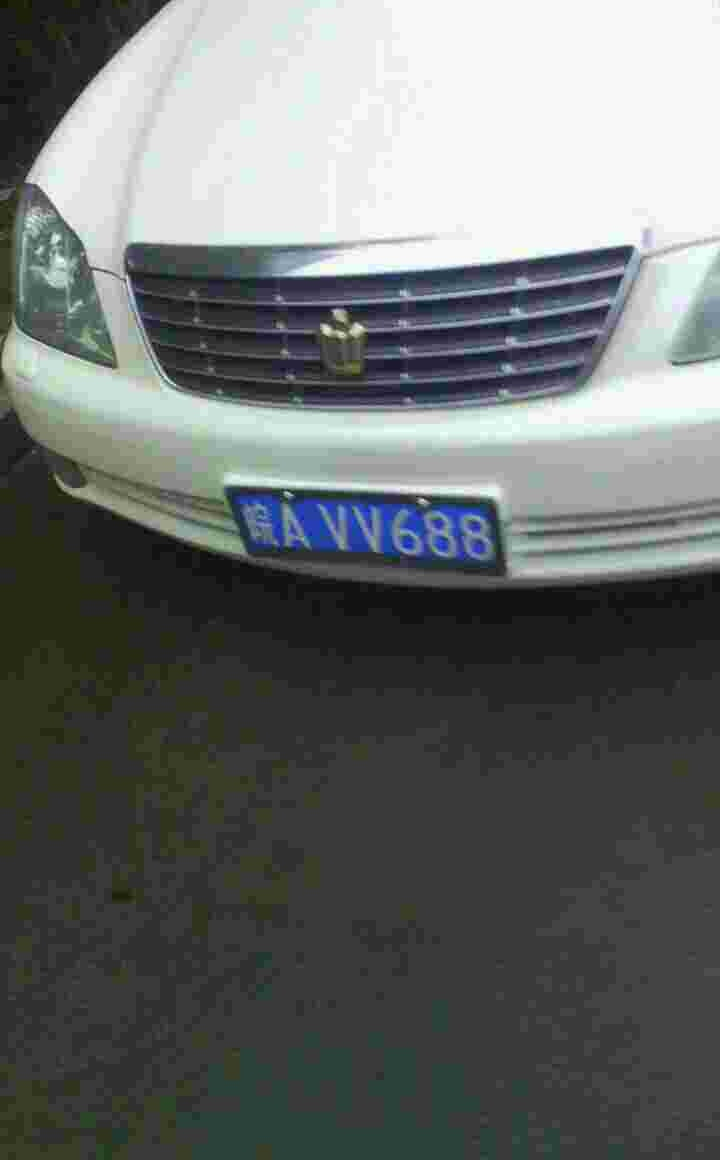plate: (229, 486, 513, 574)
